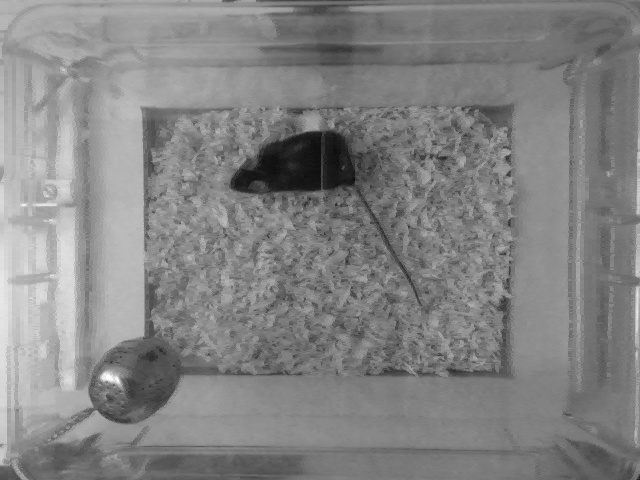mice: (225, 126, 425, 311)
